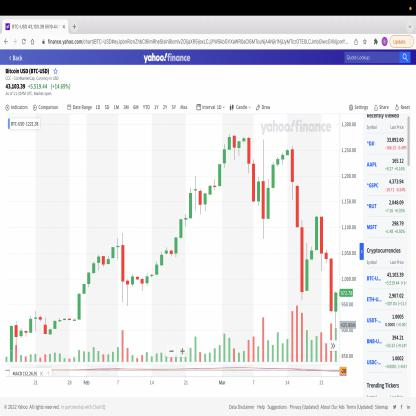Bearish: 3 Black Crows: (290, 144, 304, 302)
Bearish: Evening Star Doji: (188, 174, 203, 223)
Bullish: 3 White Soldiers: (304, 214, 319, 295), (76, 269, 92, 322), (217, 133, 232, 188), (82, 258, 96, 297)
